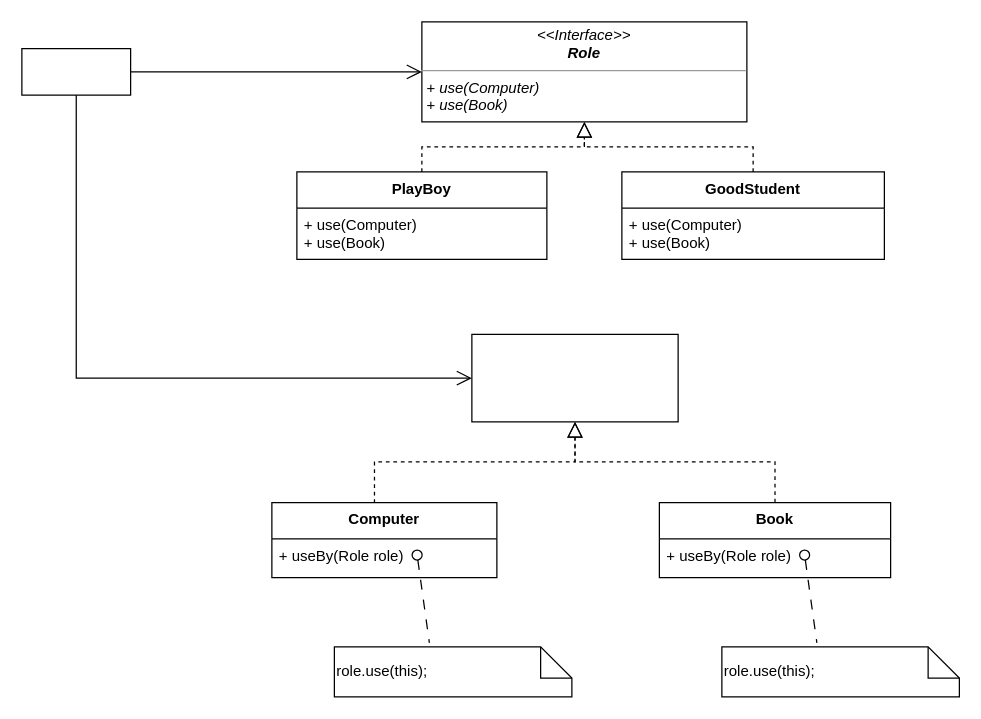
Some shapes in this 981 by 719 pixel diagram are drawn without their labels. Each missing label, with the centre of its shape:
"<<Interface>> Thing + useBy(Role)" belongs at [574,377].
"Client" belongs at [76,71].
